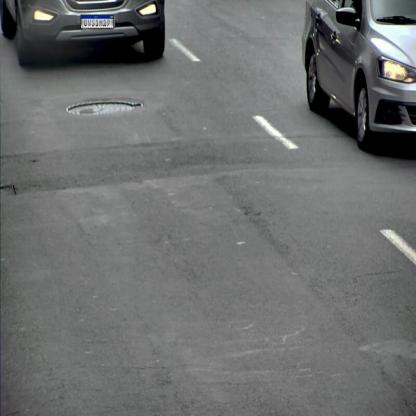PlacaM: (80, 14, 114, 28)
